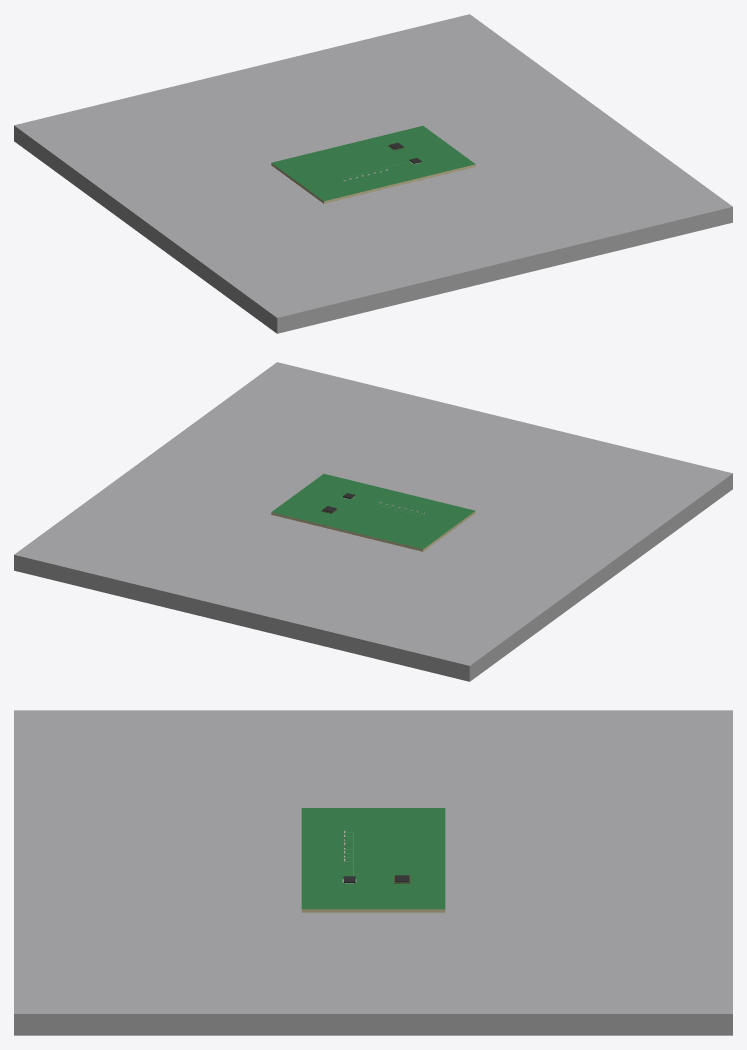
The model's file is board_fixture.gltf.
The picture shows the model from 3 angles, top to bottom: view 1: azimuth 30°, elevation 25°; view 2: azimuth 150°, elevation 25°; view 3: azimuth 270°, elevation 25°; orthographic projection. The views are drawn at different scales.
Parts seen in each view (by area): view 1: table, mask_top, fr4; view 2: table, mask_top, fr4; view 3: table, mask_top, fr4.
Boxes of the visible parts, bbox=[...] form: table: bbox=[14, 14, 732, 333]; mask_top: bbox=[271, 126, 475, 201]; fr4: bbox=[271, 163, 475, 203]; table: bbox=[14, 362, 732, 681]; mask_top: bbox=[271, 474, 475, 549]; fr4: bbox=[271, 511, 475, 551]; table: bbox=[14, 710, 732, 1035]; mask_top: bbox=[301, 808, 445, 909]; fr4: bbox=[301, 909, 445, 912].
Size of the model in its own units: 0.3 by 0.0129 by 0.3.
